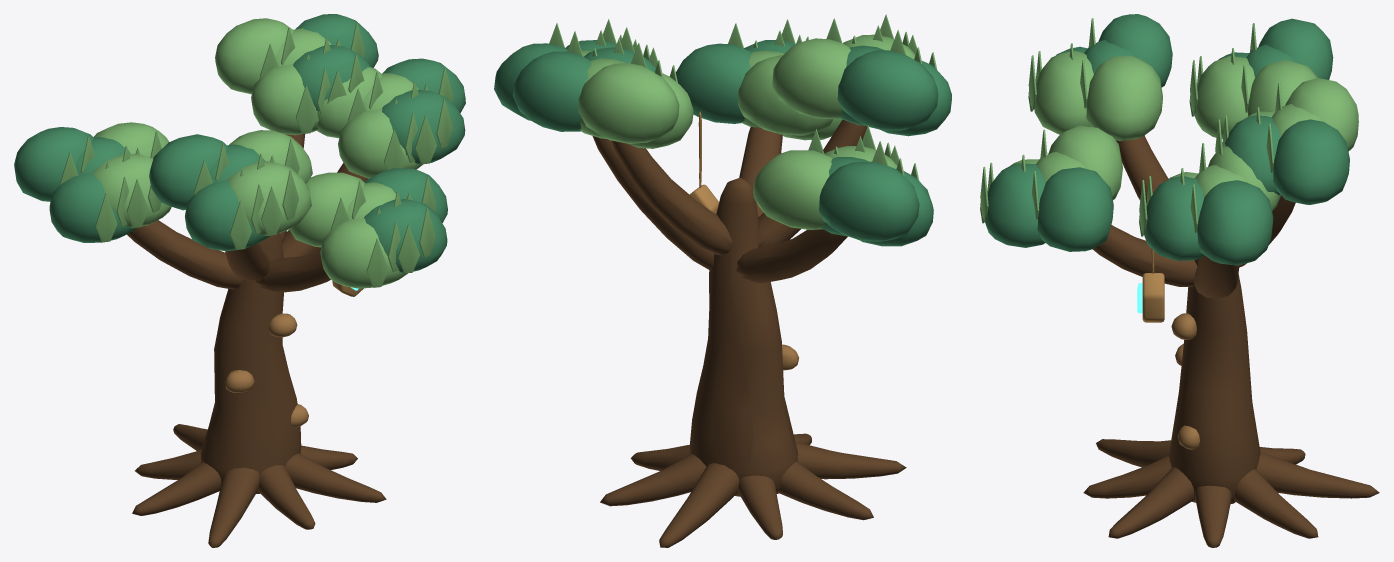
File: ancient_tree.glb
The picture shows the model from 3 angles, left to right: view 1: azimuth 30°, elevation 25°; view 2: azimuth 150°, elevation 25°; view 3: azimuth 270°, elevation 25°; orthographic projection. The views are drawn at different scales.
Visible parts, largest first — view 1: Gnarled bifurcated trunk, Foliage cluster 1 2, Foliage cluster 4 2, Foliage cluster 3 2, Twisting branch 1, Foliage cluster 2 4, Foliage cluster 1 4, Foliage cluster 3 4, Foliage cluster 3 3, Foliage cluster 0 4, Foliage cluster 0 3, Foliage cluster 4 4 (+36 smaller); view 2: Gnarled bifurcated trunk, Foliage cluster 1 2, Foliage cluster 3 2, Foliage cluster 4 2, Foliage cluster 1 1, Foliage cluster 3 1, Foliage cluster 4 1, Twisting branch 4, Foliage cluster 2 1, Twisting branch 1, Foliage cluster 2 2, Exposed root 2 (+15 smaller); view 3: Gnarled bifurcated trunk, Foliage cluster 2 1, Foliage cluster 4 1, Foliage cluster 0 1, Foliage cluster 3 1, Foliage cluster 0 3, Foliage cluster 2 3, Foliage cluster 3 3, Foliage cluster 1 3, Exposed root 2, Twisting branch 2, Foliage cluster 3 2 (+22 smaller).
Boxes of the visible parts, x1,y1,x2,y2 form: Gnarled bifurcated trunk: (200, 233, 301, 493); Foliage cluster 1 2: (14, 127, 93, 201); Foliage cluster 4 2: (215, 18, 294, 94); Foliage cluster 3 2: (149, 134, 227, 210); Twisting branch 1: (127, 220, 242, 289); Foliage cluster 2 4: (320, 218, 407, 288); Foliage cluster 1 4: (49, 172, 135, 242); Foliage cluster 3 4: (185, 180, 269, 251); Foliage cluster 3 3: (227, 161, 311, 235); Foliage cluster 0 4: (338, 108, 422, 178); Foliage cluster 0 3: (382, 89, 465, 164); Foliage cluster 4 4: (251, 64, 318, 135); Gnarled bifurcated trunk: (690, 177, 797, 496); Foliage cluster 1 2: (819, 161, 919, 241); Foliage cluster 3 2: (837, 50, 938, 130); Foliage cluster 4 2: (578, 63, 679, 143); Foliage cluster 1 1: (753, 150, 832, 229); Foliage cluster 3 1: (772, 38, 850, 119); Foliage cluster 4 1: (513, 51, 591, 131); Twisting branch 4: (611, 140, 732, 255); Foliage cluster 2 1: (676, 43, 751, 123); Twisting branch 1: (736, 229, 847, 283); Foliage cluster 2 2: (738, 55, 832, 135); Exposed root 2: (659, 463, 739, 547); Gnarled bifurcated trunk: (1169, 259, 1260, 504); Foliage cluster 2 1: (1037, 167, 1113, 251); Foliage cluster 4 1: (1273, 119, 1349, 204); Foliage cluster 0 1: (1197, 180, 1273, 265); Foliage cluster 3 1: (1086, 56, 1162, 140); Foliage cluster 0 3: (1144, 176, 1204, 260); Foliage cluster 2 3: (984, 163, 1045, 247); Foliage cluster 3 3: (1034, 51, 1093, 134); Foliage cluster 1 3: (1194, 56, 1254, 138); Exposed root 2: (1256, 452, 1379, 498); Twisting branch 2: (1092, 225, 1197, 286); Foliage cluster 3 2: (1098, 14, 1172, 87).
Size of the model in its own units: 4.45 by 4.31 by 3.47.
